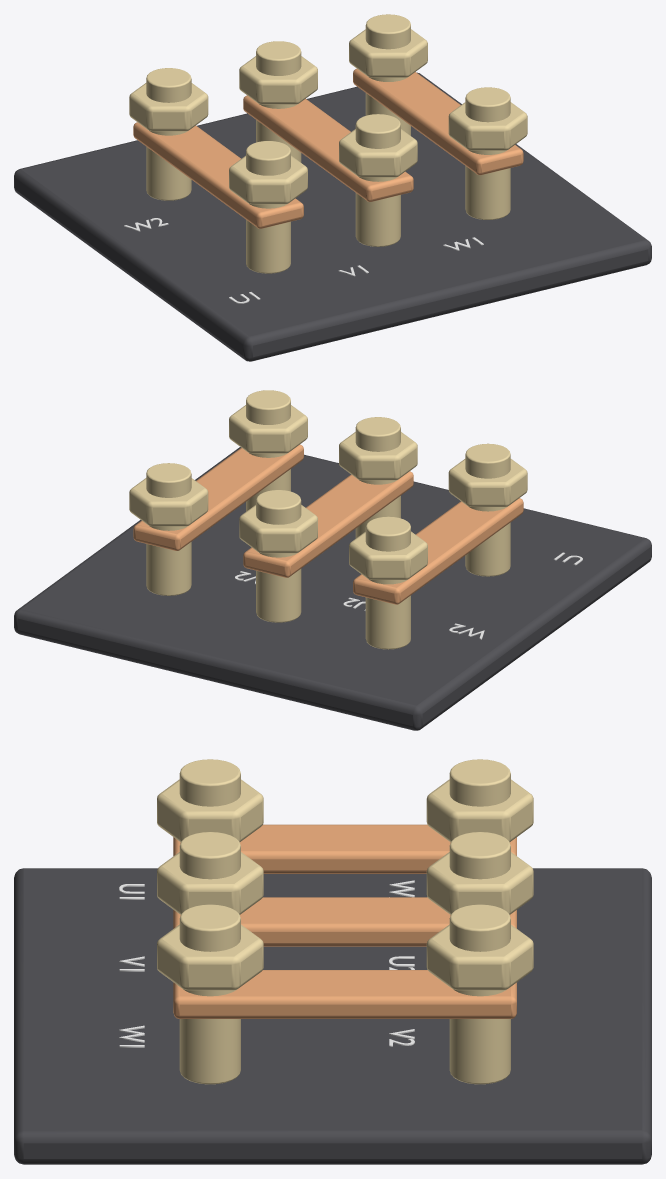
File: motor_tbox_delta.glb
The picture shows the model from 3 angles, top to bottom: view 1: azimuth 30°, elevation 25°; view 2: azimuth 150°, elevation 25°; view 3: azimuth 270°, elevation 25°; orthographic projection. The views are drawn at different scales.
Parts seen in each view (by area): view 1: terminal_box; view 2: terminal_box; view 3: terminal_box.
Part boxes in pixels (x1,y1,x2,y2): terminal_box: [14, 14, 651, 361]; terminal_box: [14, 390, 651, 730]; terminal_box: [14, 759, 651, 1164].
Size of the model in its own units: 0.052 by 0.017 by 0.052.
